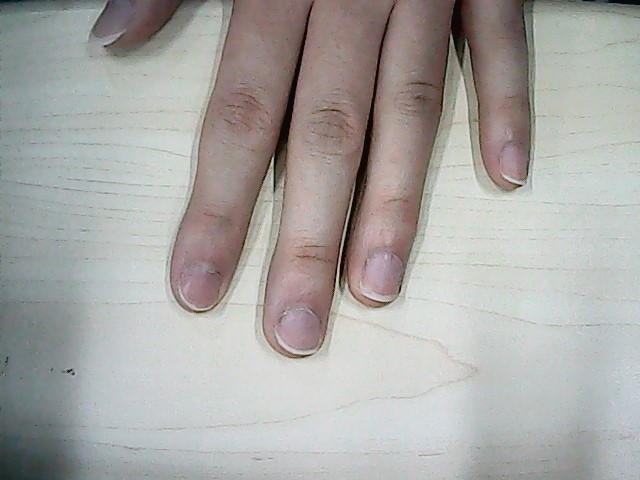nail: (177, 259, 223, 312), (361, 246, 403, 304), (276, 305, 321, 354), (87, 1, 132, 48), (500, 139, 529, 189)
